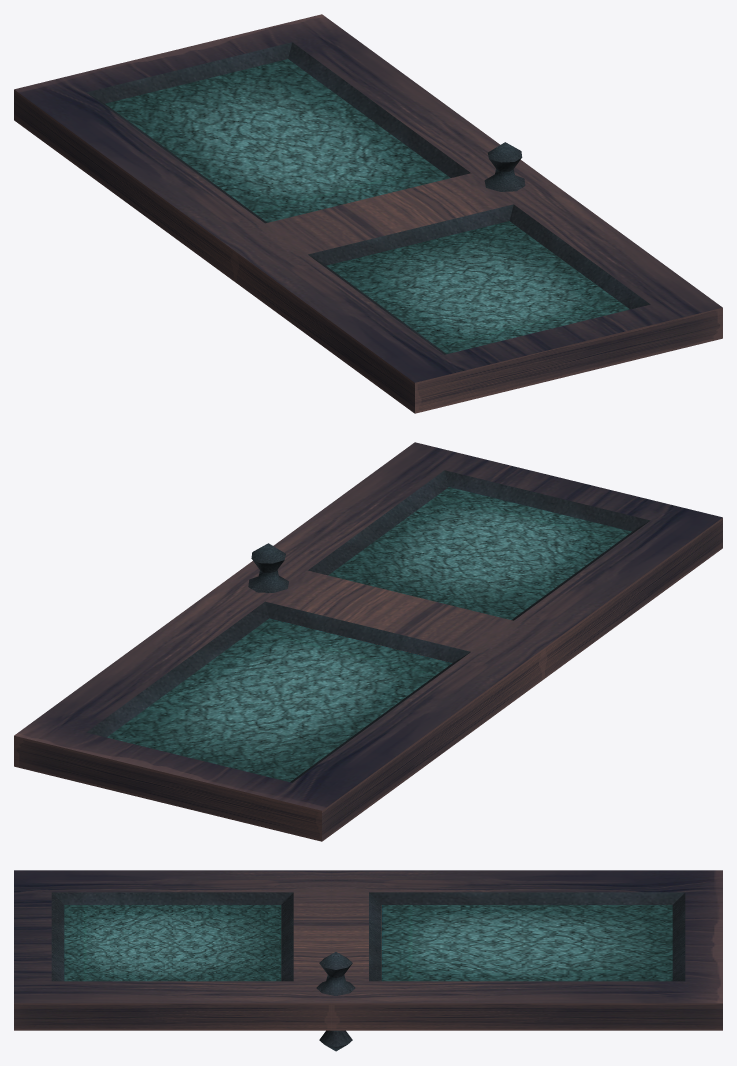
The model's file is Door_A.fbx.
3 renders of one model, top to bottom at view 1: azimuth 30°, elevation 25°; view 2: azimuth 150°, elevation 25°; view 3: azimuth 270°, elevation 25°, orthographic. The views are drawn at different scales.
Visible parts, largest first — view 1: Door_A; view 2: Door_A; view 3: Door_A.
Part boxes in pixels (left/top/right/bottom): Door_A: left=14, top=14, right=722, bottom=413; Door_A: left=14, top=442, right=722, bottom=841; Door_A: left=14, top=870, right=722, bottom=1051.
Size of the model in its own units: 18.3 by 6.42 by 41.26.
